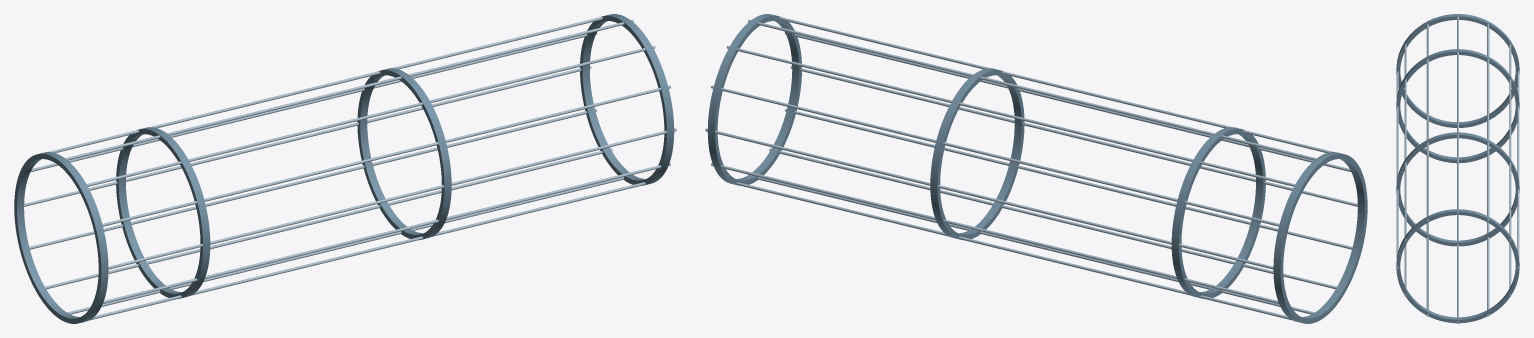
File: bypass-lattice.glb
3 views of the same model, side by side, from view 1: azimuth 30°, elevation 25°; view 2: azimuth 150°, elevation 25°; view 3: azimuth 270°, elevation 25° (orthographic). The views are drawn at different scales.
Parts seen in each view (by area): view 1: bypass-lattice - steel, bypass-lattice - shell; view 2: bypass-lattice - steel, bypass-lattice - shell; view 3: bypass-lattice - shell, bypass-lattice - steel.
Part boxes in pixels (left/top/right/bottom): bypass-lattice - steel: left=24, top=17, right=676, bottom=320; bypass-lattice - shell: left=14, top=14, right=674, bottom=323; bypass-lattice - steel: left=705, top=17, right=1357, bottom=320; bypass-lattice - shell: left=707, top=14, right=1367, bottom=323; bypass-lattice - shell: left=1396, top=14, right=1519, bottom=323; bypass-lattice - steel: left=1396, top=16, right=1519, bottom=323.
Bounding box in the file's own units: 7.63 × 2 × 2.
